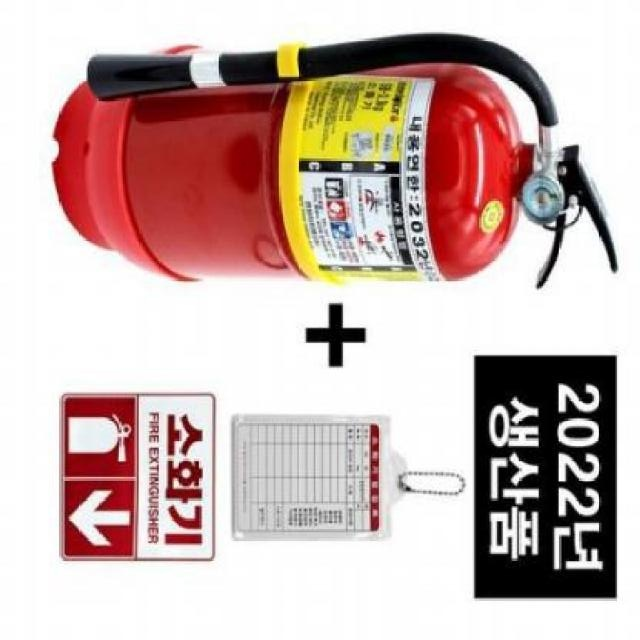fire extinguisher: (51, 30, 620, 290)
